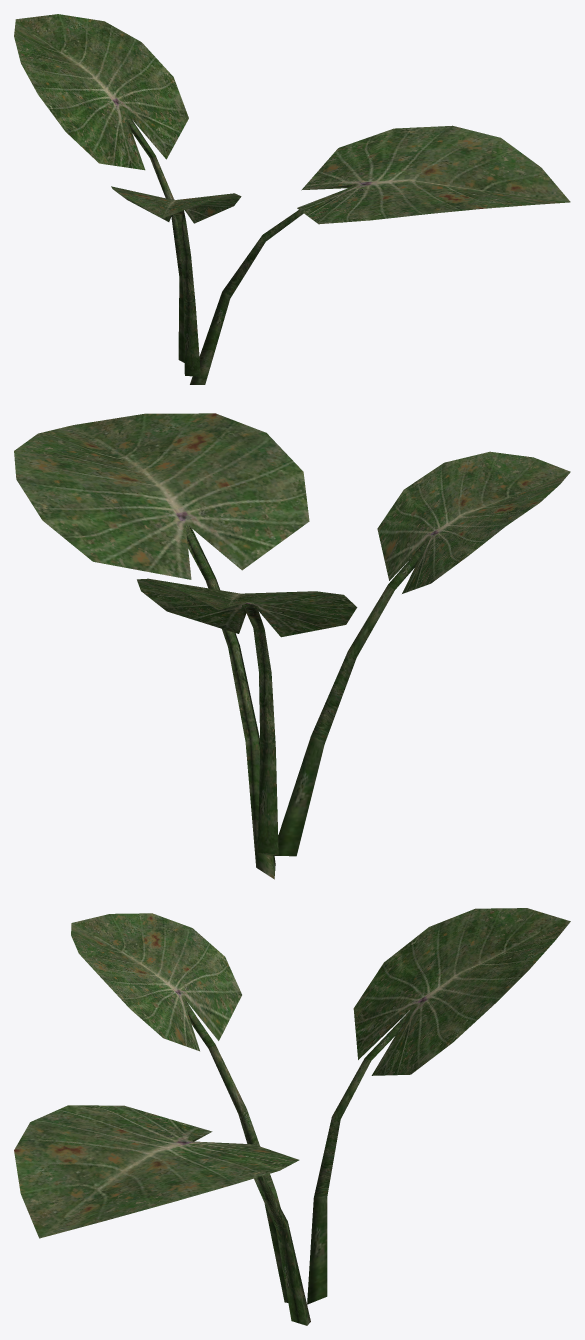
The model's file is leaf_giantpalm_sm_l0.fbx.
3 views of the same model, one above another, from view 1: azimuth 30°, elevation 25°; view 2: azimuth 150°, elevation 25°; view 3: azimuth 270°, elevation 25° (orthographic). The views are drawn at different scales.
Visible parts, largest first — view 1: mesh_node; view 2: mesh_node; view 3: mesh_node.
Boxes of the visible parts, left/top/right/bottom form: mesh_node: left=14, top=14, right=570, bottom=384; mesh_node: left=14, top=413, right=570, bottom=879; mesh_node: left=14, top=908, right=570, bottom=1325.
Size of the model in its own units: 3.04 by 2.18 by 3.02.
